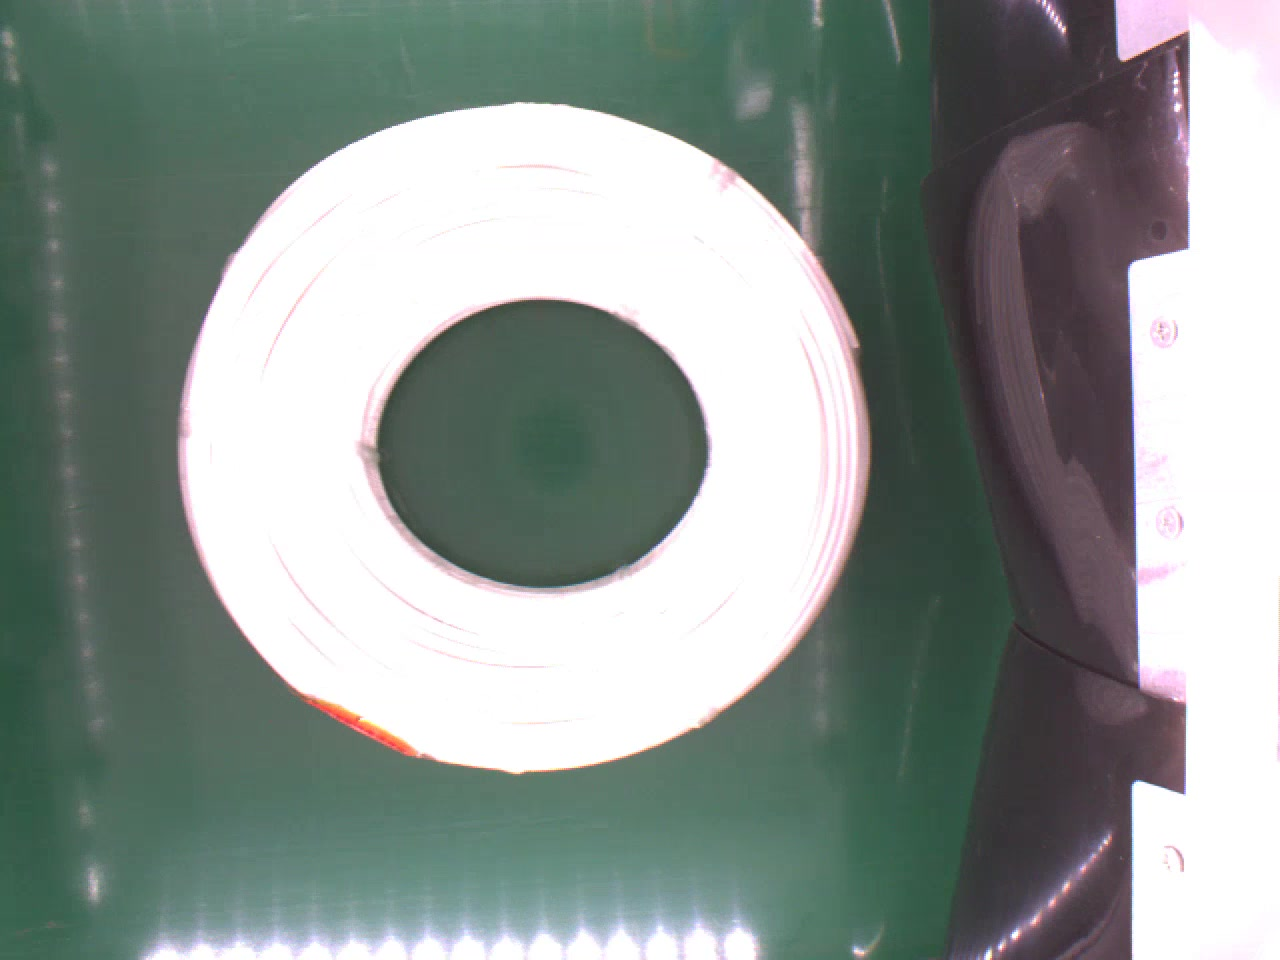white: (172, 96, 879, 774)
